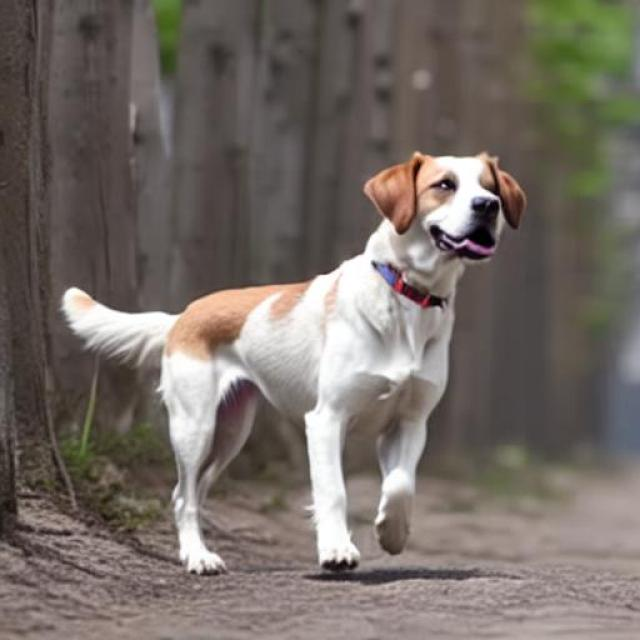Dog: (60, 151, 527, 576)
